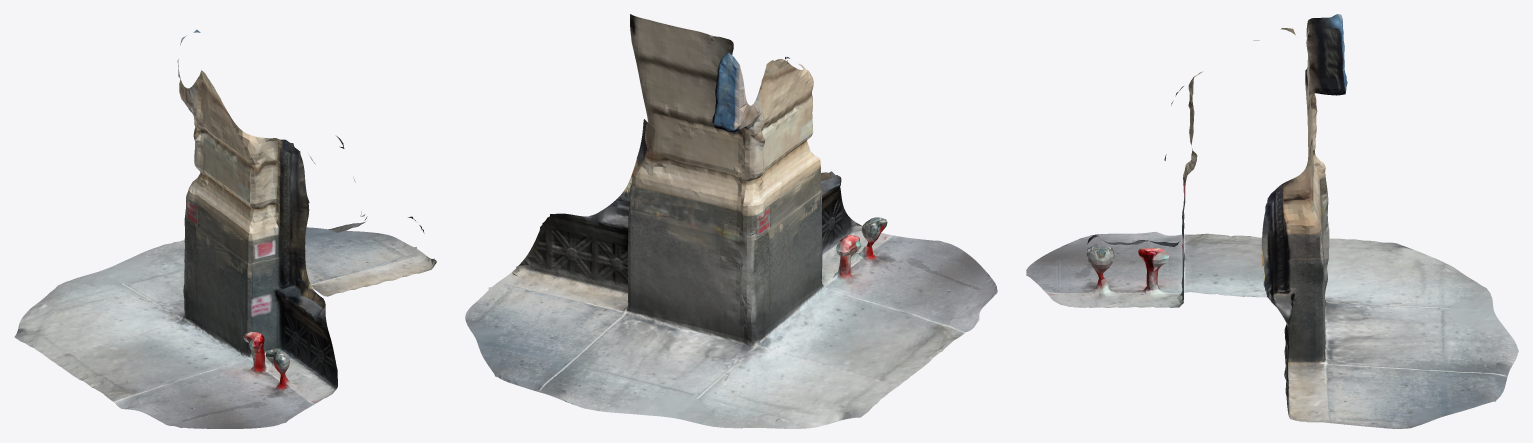
3 renders of one model, left to right at view 1: azimuth 30°, elevation 25°; view 2: azimuth 150°, elevation 25°; view 3: azimuth 270°, elevation 25°, orthographic. The views are drawn at different scales.
Size of the model in its own units: 5.64 by 4.15 by 5.95.
1 material, 1 textured.
